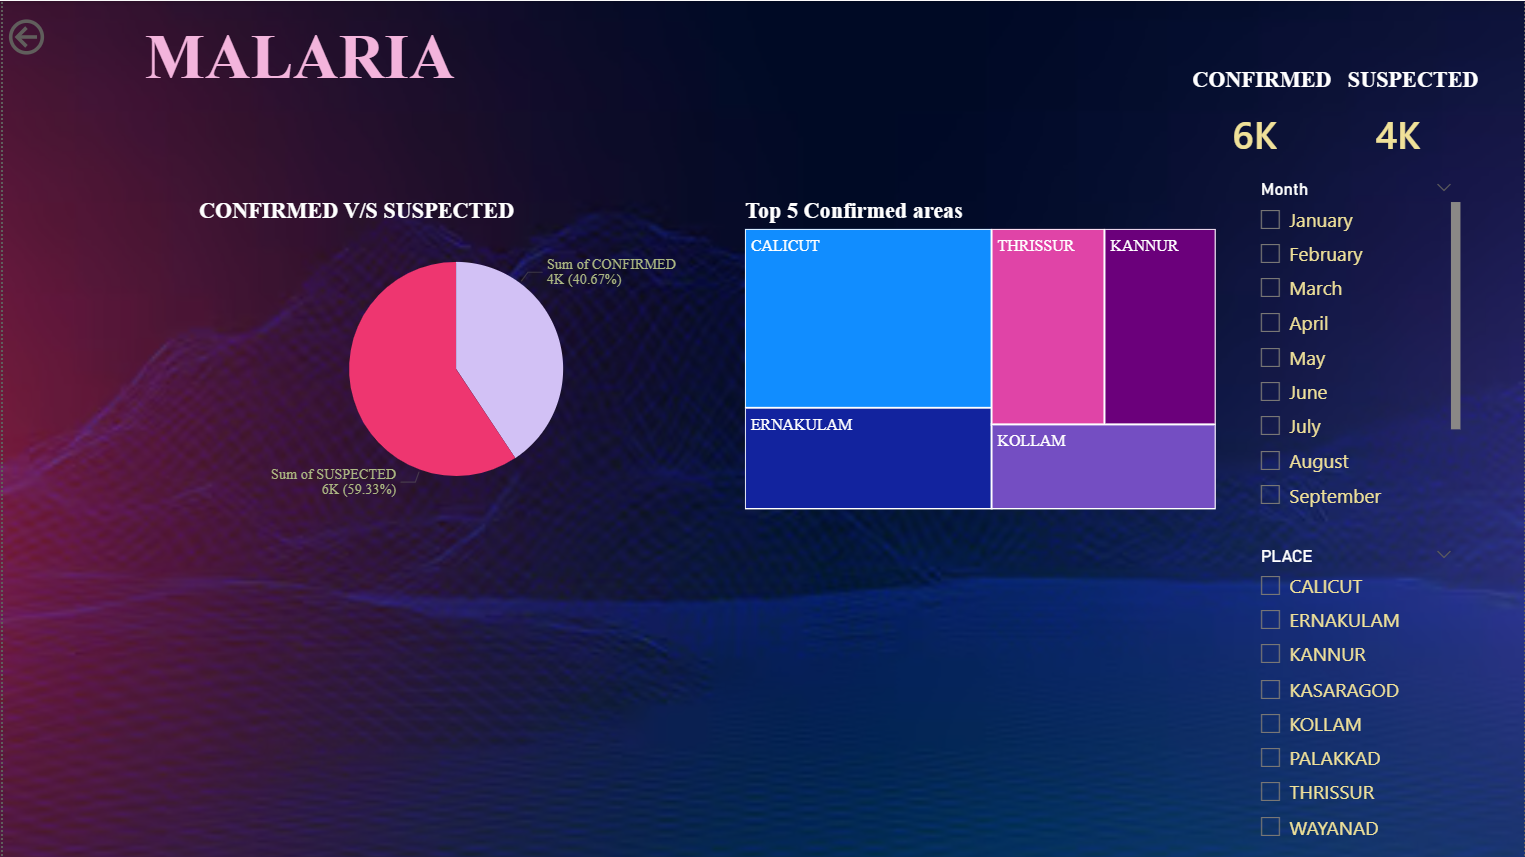

This screenshot's page, from the dashboard's own definition file:
{"tool":"powerbi","page":{"name":"Malaria","canvas":[1280,720],"ordinal":2},"visuals":[{"type":"cardVisual","fields":{"Data":["Sum(DISEASES.SUSPECTED)","Sum(DISEASES.CONFIRMED)"]},"box":[1004.7,30.2,267.4,161.6],"z":0},{"type":"actionButton","box":[0,10.5,100,39.5],"z":1},{"type":"textbox","box":[991.9,50,134.9,37.2],"z":2},{"type":"textbox","box":[1118.6,50,134.9,37.2],"z":3},{"type":"textbox","box":[100,11.6,300,77.9],"z":4},{"type":"slicer","fields":{"Values":["DISEASES.MONTH.Variation.Date Hierarchy.Month"]},"box":[1045.4,145.3,186,287.2],"z":5},{"type":"slicer","fields":{"Values":["DISEASES.PLACE"]},"box":[1045.4,453.5,186,266.3],"z":6},{"type":"treemap","title":"Top 5 Confirmed areas","fields":{"Group":["DISEASES.PLACE"],"Values":["Sum(DISEASES.CONFIRMED)"]},"box":[619.8,166.3,405.8,266.3],"z":7},{"type":"pieChart","title":"CONFIRMED V/S SUSPECTED","fields":{"Y":["Sum(DISEASES.CONFIRMED)","Sum(DISEASES.SUSPECTED)"]},"box":[159.3,166.3,443,266.3],"z":8}]}

Visuals, with their boxes in screenshot pixels (x1, y1, x2, y2), scaled from the page's 1280x720 canvas onto the 1525x857 screenshot:
cardVisual - Sum(DISEASES.SUSPECTED) x Sum(DISEASES.CONFIRMED): crop(1197, 36, 1516, 228)
actionButton: crop(0, 12, 119, 60)
textbox: crop(1182, 60, 1342, 104)
textbox: crop(1333, 60, 1493, 104)
textbox: crop(119, 14, 477, 107)
slicer - DISEASES.MONTH.Variation.Date Hierarchy.Month: crop(1245, 173, 1467, 515)
slicer - DISEASES.PLACE: crop(1245, 540, 1467, 856)
"Top 5 Confirmed areas" treemap: crop(738, 198, 1222, 515)
"CONFIRMED V/S SUSPECTED" pieChart: crop(190, 198, 718, 515)
